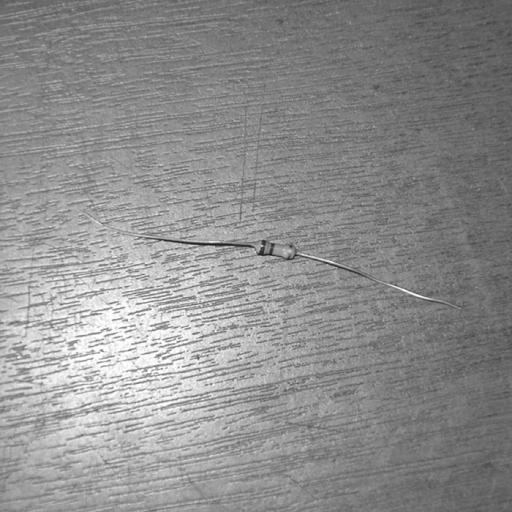RESISTOR: (216, 146, 354, 332)
